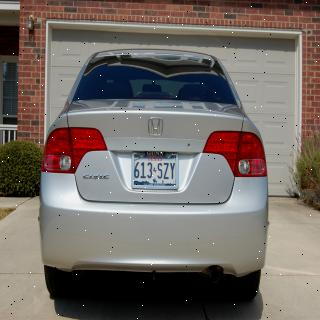license: (132, 152, 180, 190)
